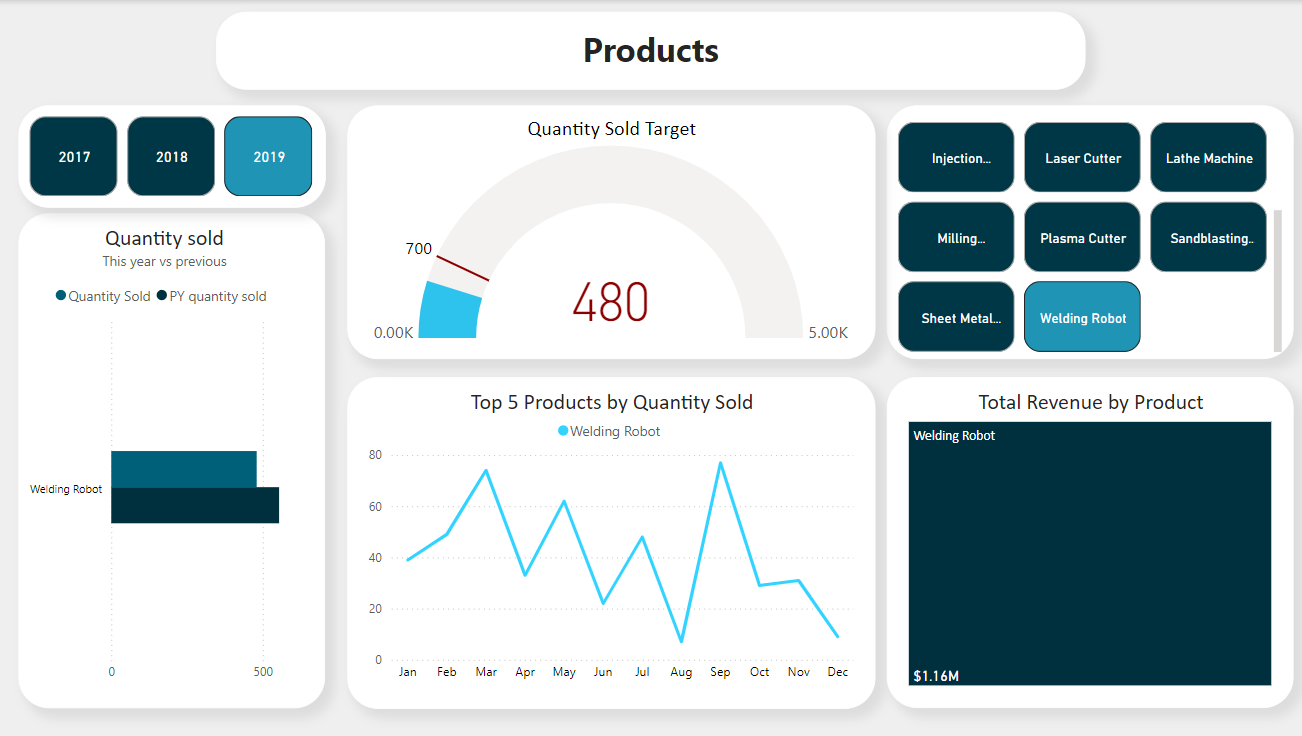

What the dashboard file says about the page in this screenshot:
{"tool":"powerbi","page":{"name":"Products","canvas":[1280,720],"ordinal":1},"visuals":[{"type":"textbox","box":[216.2,11.2,848.7,76.2],"z":0},{"type":"clusteredBarChart","title":"Quantity sold","fields":{"Category":["Products_Data.Product Name"],"Y":["DAX measures.Quantity Sold","DAX measures.PY quantity sold"]},"box":[22.8,208,299.4,483.3],"z":1000},{"type":"lineChart","title":"Quantity Sold","fields":{"Category":["Date_Table.Month Short"],"Y":["DAX measures.Quantity Sold"],"Series":["Products_Data.Product Name"]},"box":[343.3,368.3,570,323.3],"z":2000},{"type":"advancedSlicerVisual","fields":{"Values":["Products_Data.Product Name"]},"box":[926,102.8,341.2,588.6],"z":3000},{"type":"advancedSlicerVisual","title":"Year","fields":{"Values":["Date_Table.Year"]},"box":[23.3,103.3,300,100],"z":4000},{"type":"gauge","title":"Target","fields":{"TargetValue":["DAX measures.Target Quantity"],"Y":["DAX measures.Gauge Value"]},"box":[343.8,102.8,569.6,247.4],"z":5000}]}

Visuals, with their boxes in screenshot pixels (x1, y1, x2, y2), scaled from the page's 1280x720 canvas onto the 1302x736 screenshot:
textbox: box(220, 11, 1083, 89)
"Quantity sold" clusteredBarChart: box(23, 213, 328, 707)
"Quantity Sold" lineChart: box(349, 376, 929, 707)
advancedSlicerVisual - Products_Data.Product Name: box(942, 105, 1289, 707)
"Year" advancedSlicerVisual: box(24, 106, 329, 208)
"Target" gauge: box(350, 105, 929, 358)
